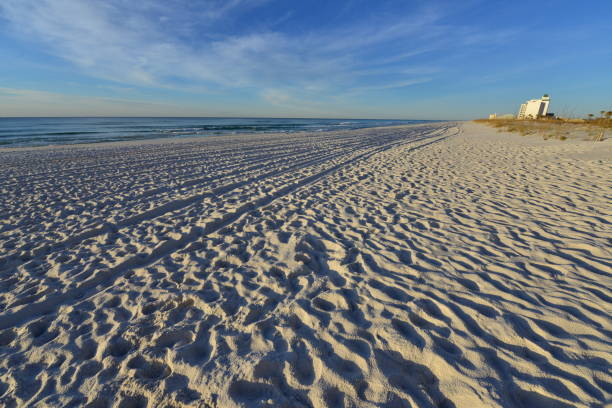vehicle_track: (0, 132, 447, 328), (0, 143, 366, 270)
